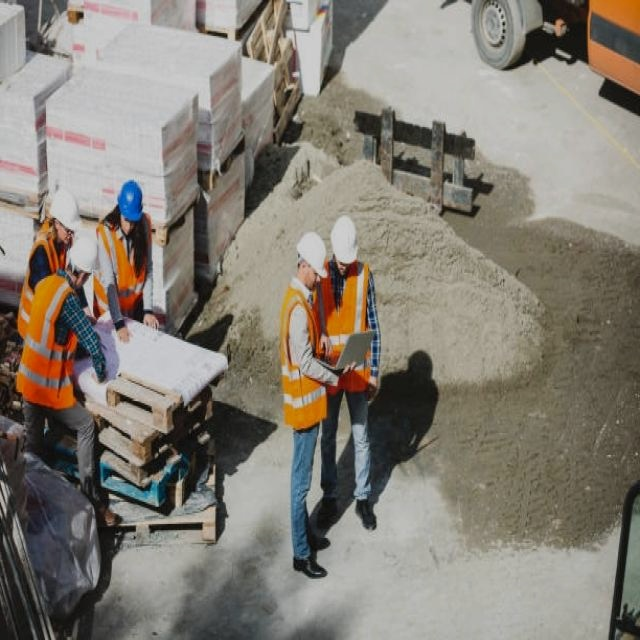Con_Casco: (330, 214, 359, 270), (117, 178, 144, 233)
Con_Chaleco: (18, 278, 81, 400), (276, 285, 326, 421)
